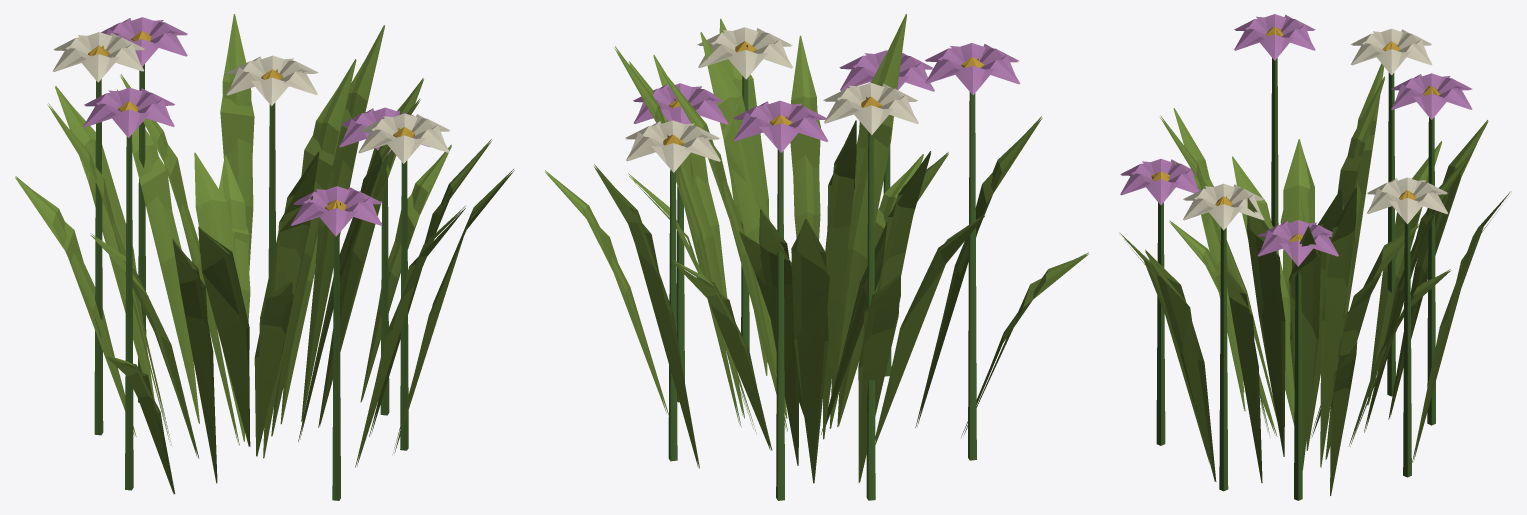
File: Flowers.preintegration.glb
The picture shows the model from 3 angles, left to right: view 1: azimuth 30°, elevation 25°; view 2: azimuth 150°, elevation 25°; view 3: azimuth 270°, elevation 25°; orthographic projection. The views are drawn at different scales.
Visible parts, largest first — view 1: Flowers_L0, Flowers_L2, Flowers_L1; view 2: Flowers_L0, Flowers_L2, Flowers_L1; view 3: Flowers_L0, Flowers_L2, Flowers_L1.
Boxes of the visible parts, bbox=[...] form: Flowers_L0: bbox=[15, 14, 513, 500]; Flowers_L2: bbox=[15, 18, 514, 493]; Flowers_L1: bbox=[15, 26, 512, 492]; Flowers_L0: bbox=[545, 14, 1088, 500]; Flowers_L2: bbox=[545, 28, 1087, 482]; Flowers_L1: bbox=[545, 15, 1088, 482]; Flowers_L0: bbox=[1119, 14, 1510, 500]; Flowers_L2: bbox=[1122, 14, 1499, 494]; Flowers_L1: bbox=[1119, 27, 1500, 484].
Bounding box in the file's own units: 0.7016 × 0.6007 × 0.6022.
